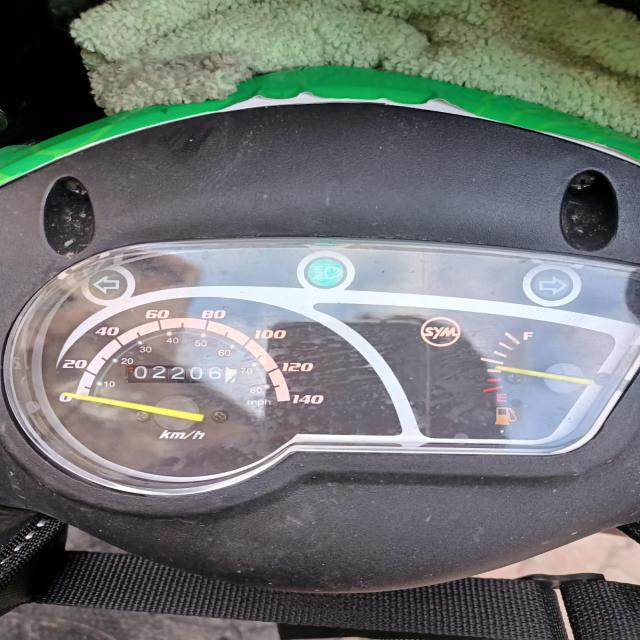odometer: (122, 363, 238, 385)
